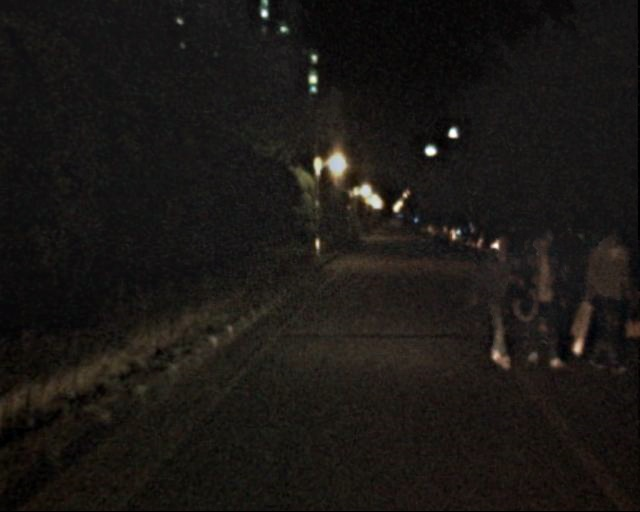person: (570, 228, 630, 374), (468, 232, 525, 372), (509, 233, 564, 366), (535, 226, 569, 309)
